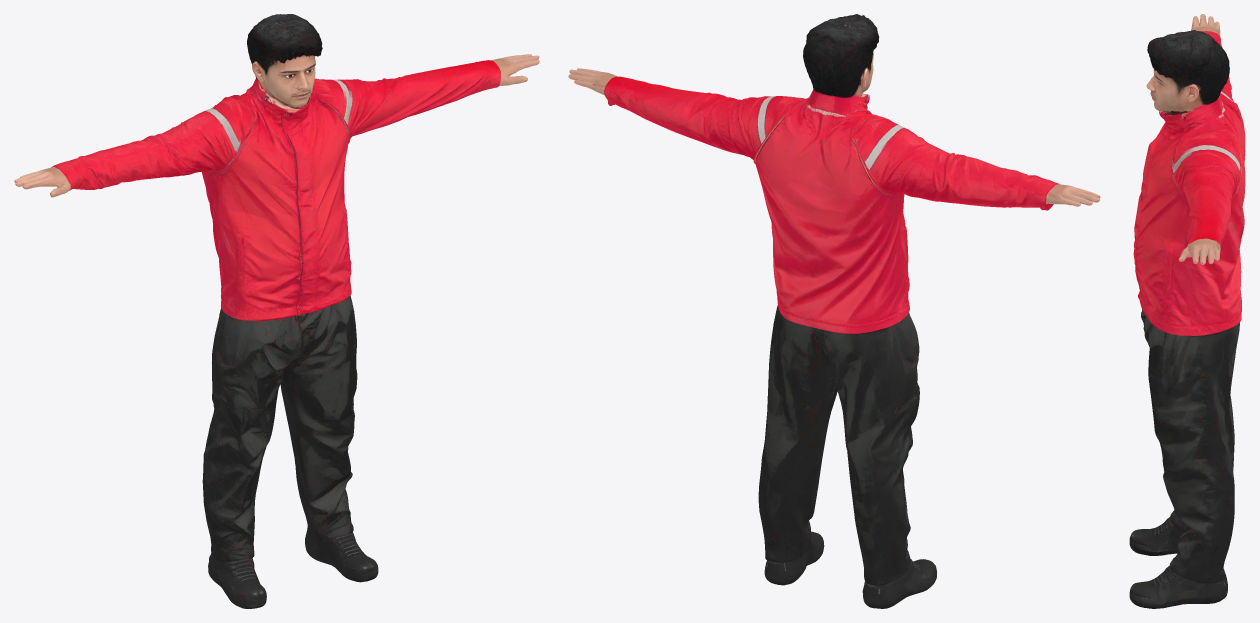
The model's file is ped_rider_rigin.glb.
3 renders of one model, left to right at view 1: azimuth 30°, elevation 25°; view 2: azimuth 150°, elevation 25°; view 3: azimuth 270°, elevation 25°, orthographic. The views are drawn at different scales.
Parts seen in each view (by area): view 1: Mesh_0; view 2: Mesh_0; view 3: Mesh_0.
Part boxes in pixels (left/top/right/bottom): Mesh_0: left=14, top=14, right=539, bottom=608; Mesh_0: left=568, top=14, right=1100, bottom=608; Mesh_0: left=1129, top=14, right=1245, bottom=608.
Bounding box in the file's own units: 1.86 × 1.89 × 0.3674.
1 material, 1 textured.
